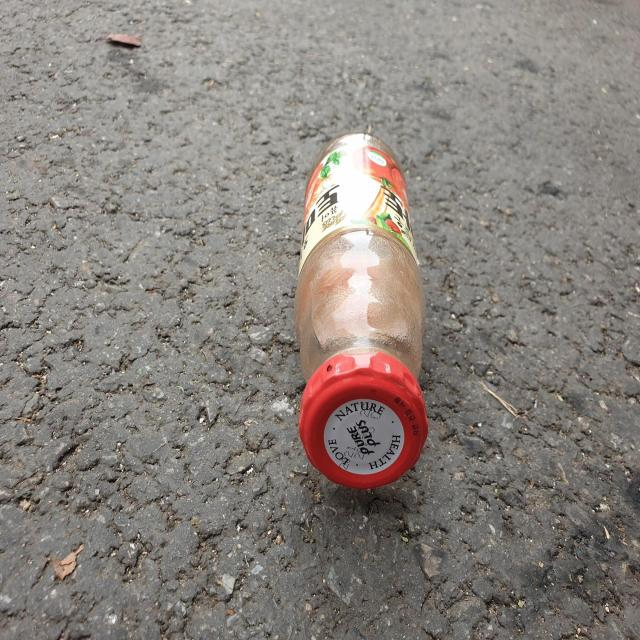glass: (295, 132, 427, 489)
